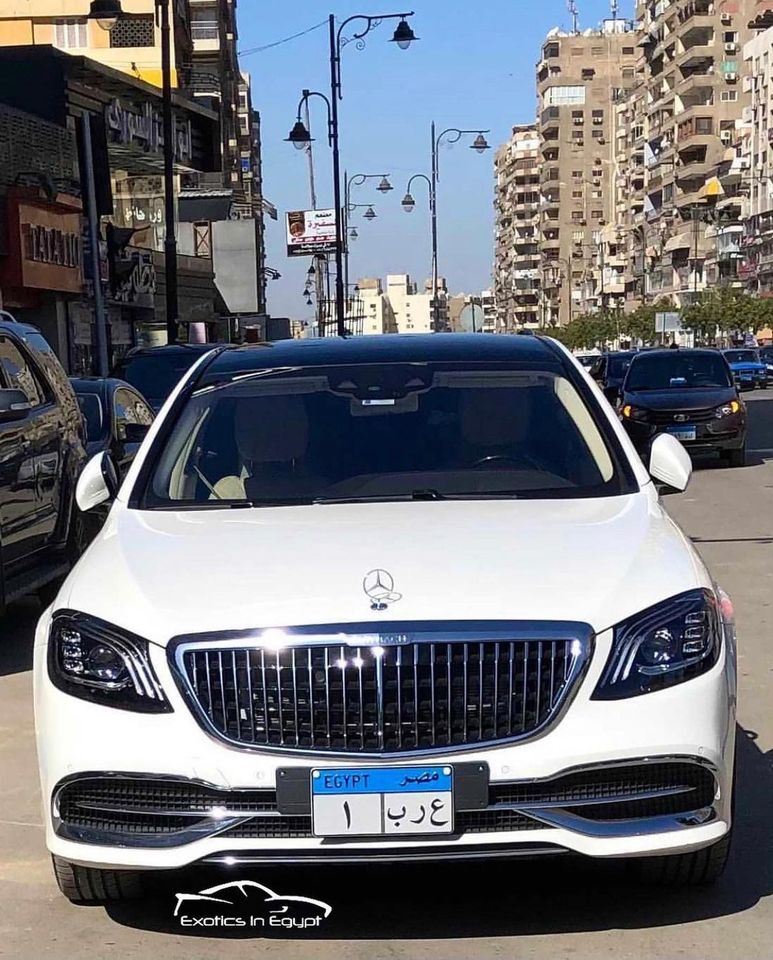carpl: (312, 768, 452, 836)
